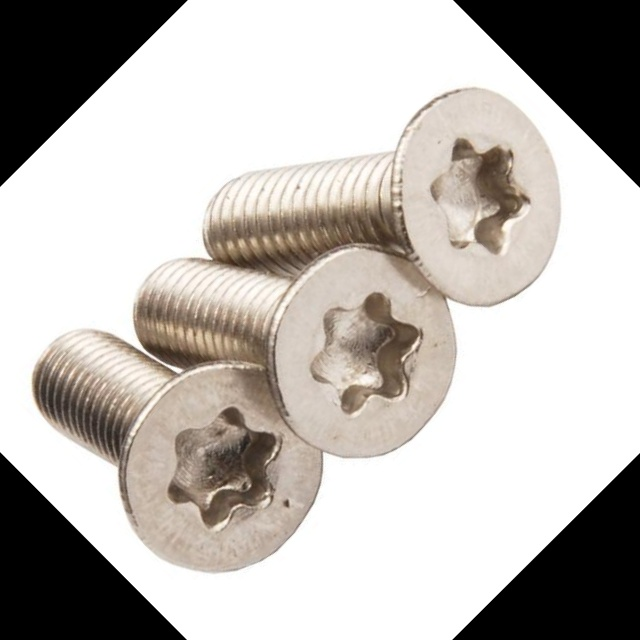torx: (139, 381, 314, 555), (281, 270, 451, 440), (402, 116, 564, 277)
